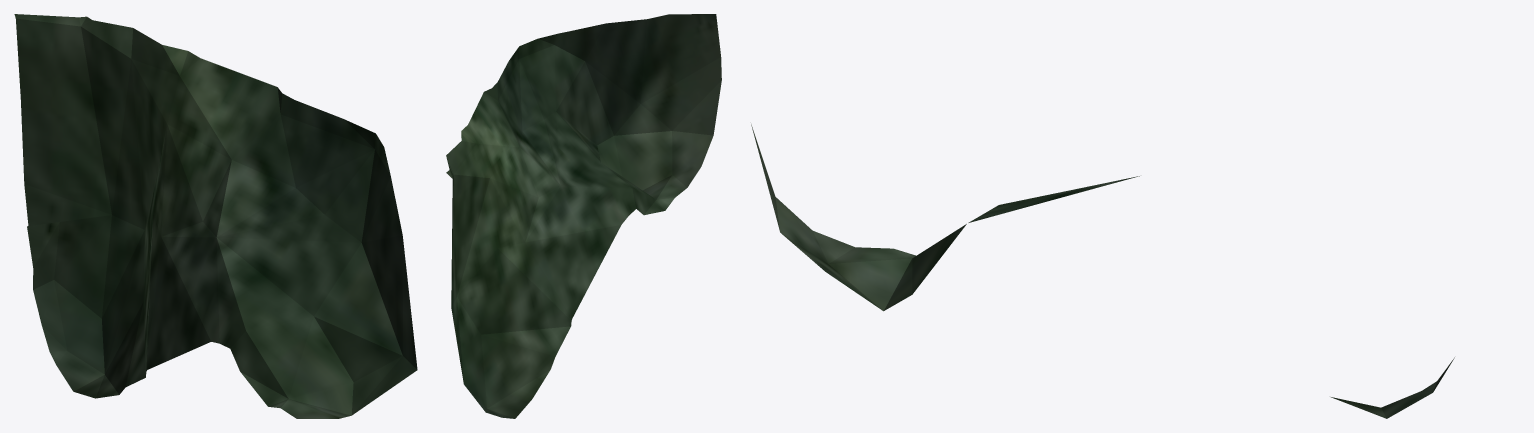
3 views of the same model, side by side, from view 1: azimuth 30°, elevation 25°; view 2: azimuth 150°, elevation 25°; view 3: azimuth 270°, elevation 25° (orthographic). The views are drawn at different scales.
Bounding box in the file's own units: 0.7262 × 1.56 × 2.77.
1 material, 1 textured.
